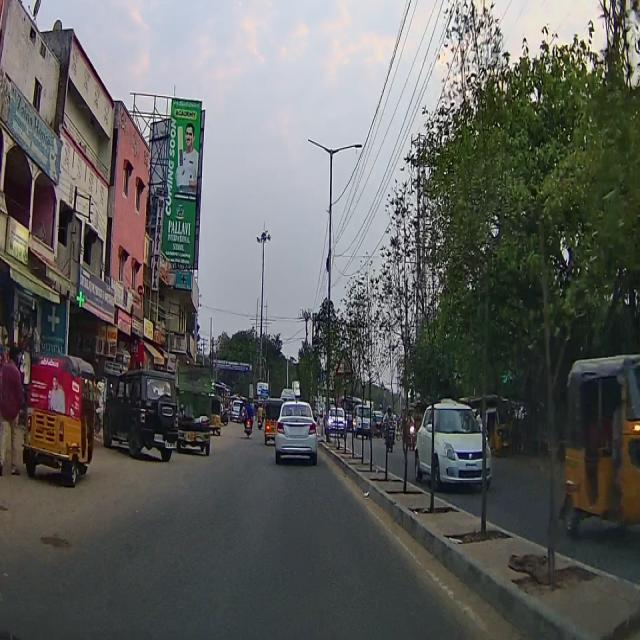right-hand-curve: (338, 348, 352, 373)
